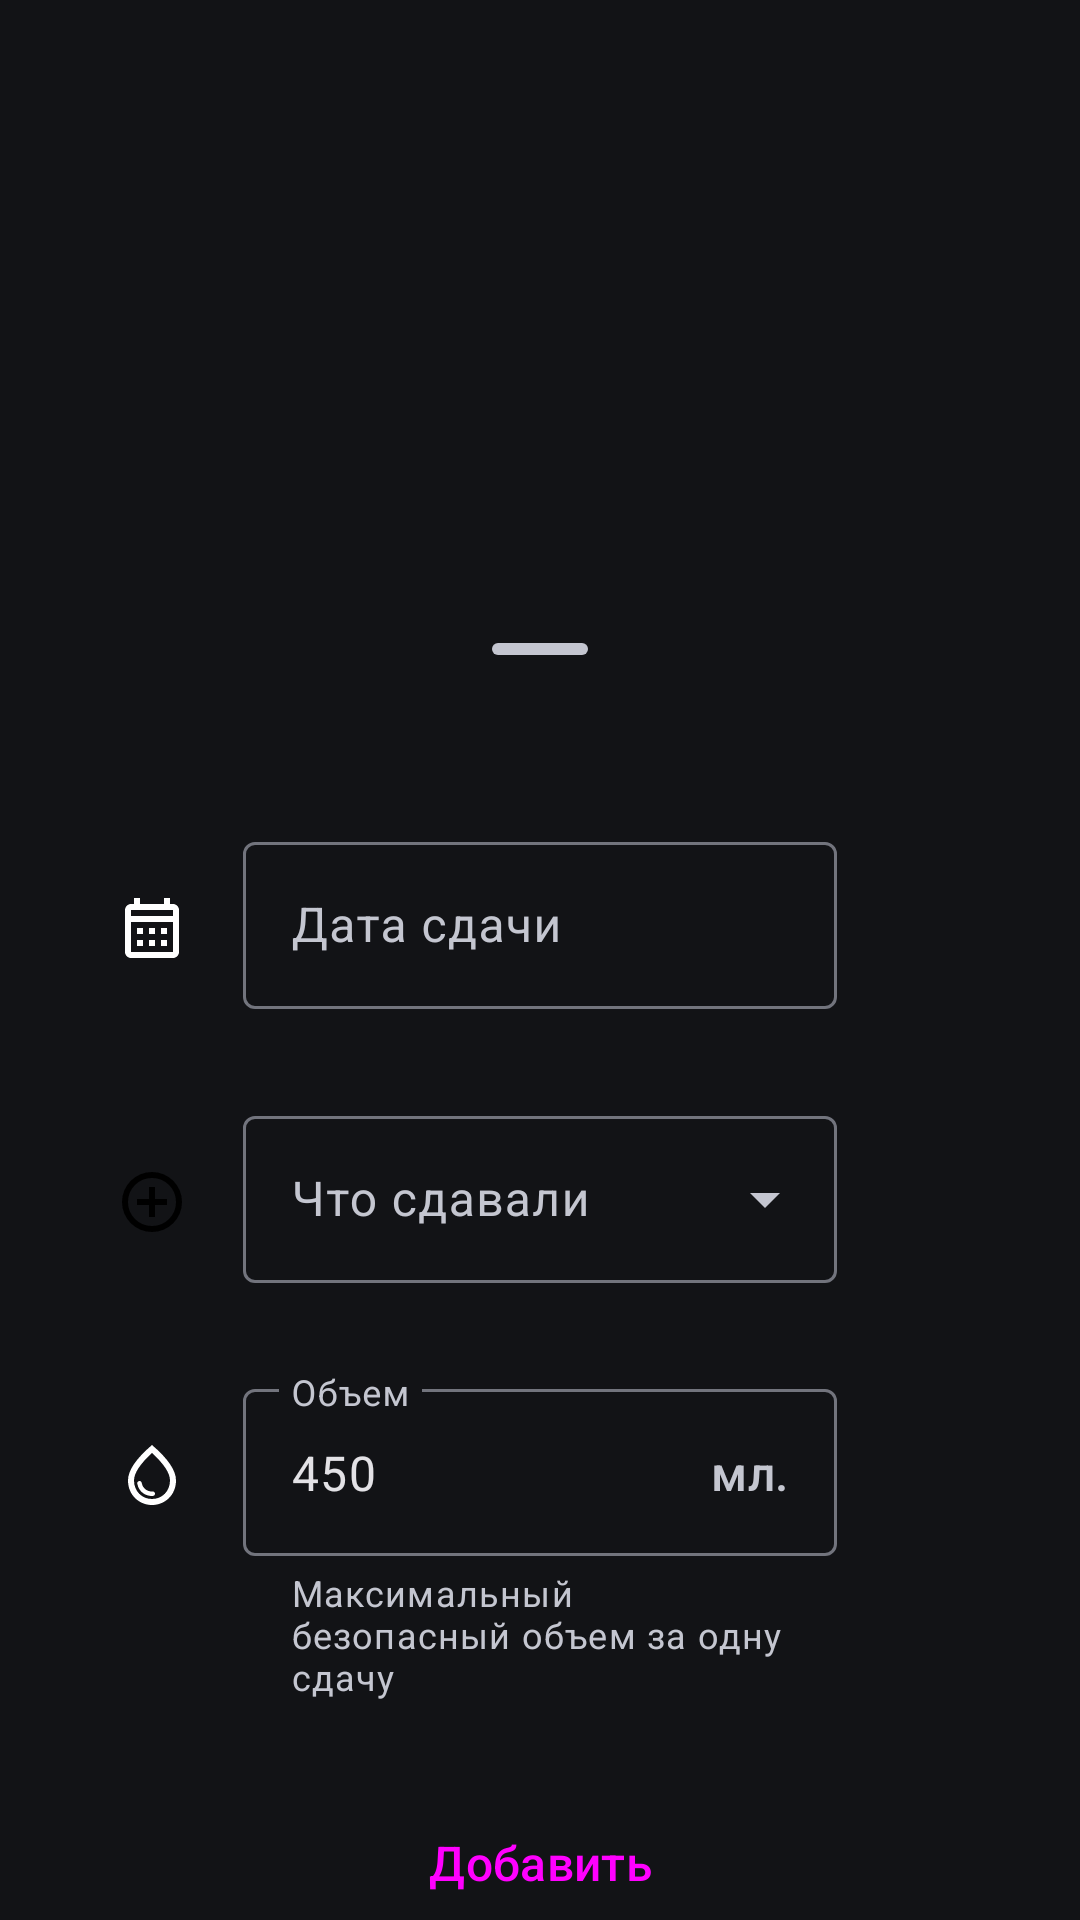

Icon click points for this 1080 × 1920 phone screenshot, format [x,y]:
calendar edit text: [152,928]
drop edit text: [152,1475]
